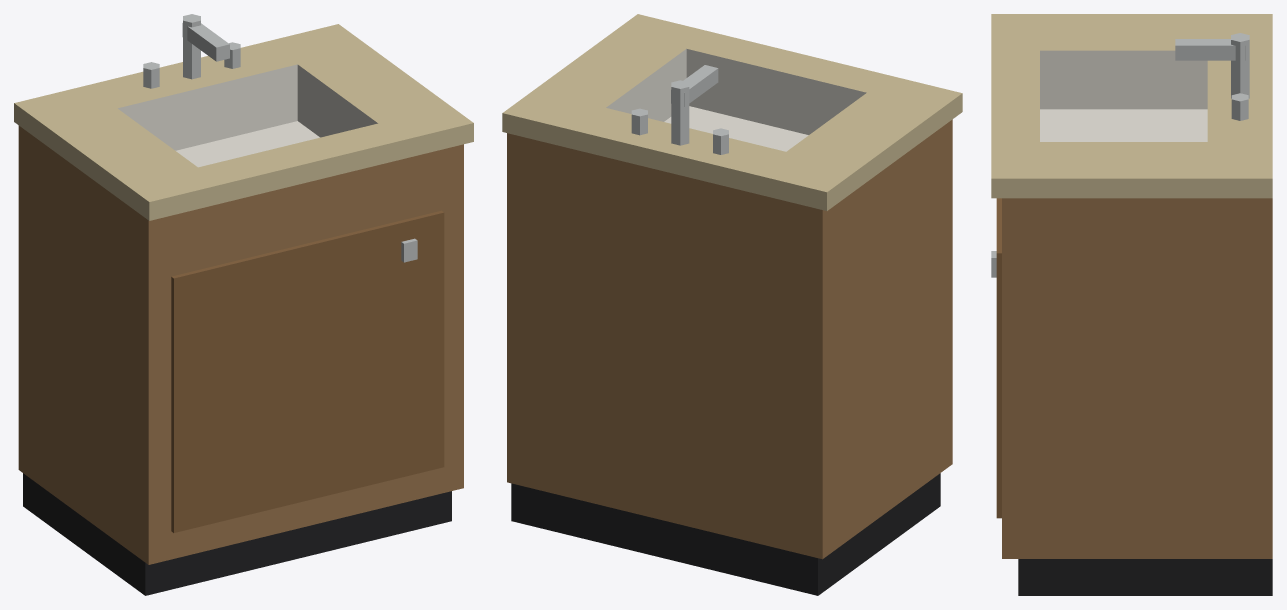
The model's file is sink.glb.
3 renders of one model, left to right at view 1: azimuth 30°, elevation 25°; view 2: azimuth 150°, elevation 25°; view 3: azimuth 270°, elevation 25°, orthographic. The views are drawn at different scales.
Visible parts, largest first — view 1: sink; view 2: sink; view 3: sink.
Part boxes in pixels (left/top/right/bottom): sink: left=14, top=14, right=473, bottom=595; sink: left=502, top=14, right=962, bottom=595; sink: left=991, top=14, right=1272, bottom=595.
Size of the model in its own units: 0.72 by 0.98 by 0.52.
